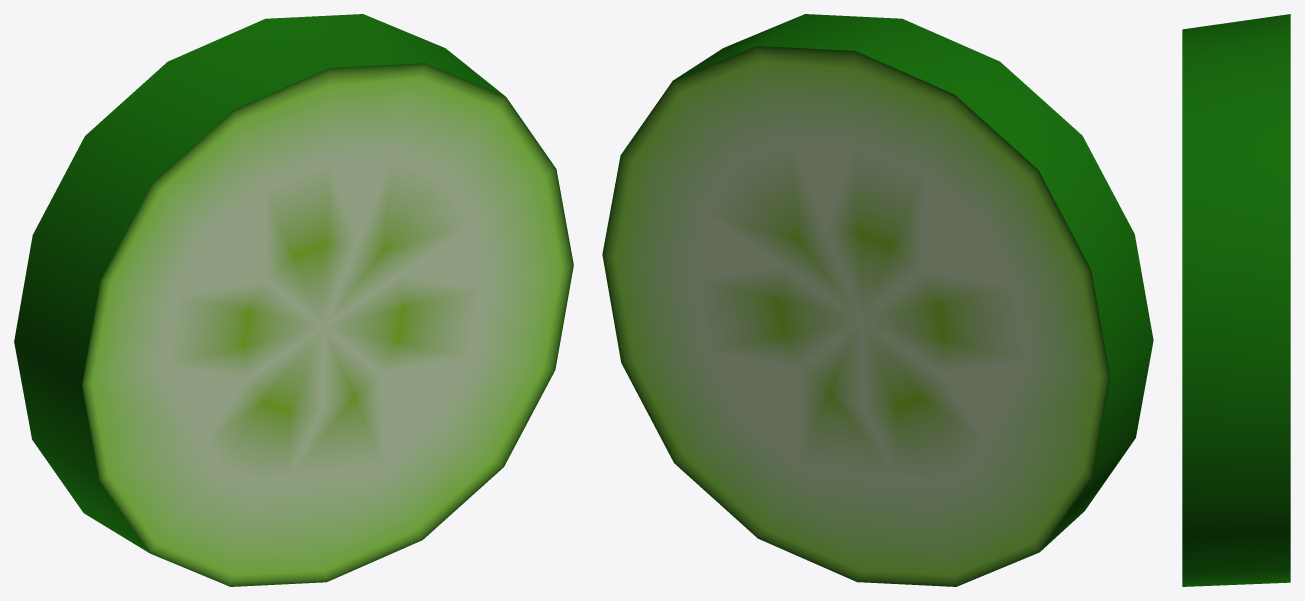
The model's file is Cucumber_Slice_07.fbx.
3 renders of one model, left to right at view 1: azimuth 30°, elevation 25°; view 2: azimuth 150°, elevation 25°; view 3: azimuth 270°, elevation 25°, orthographic. The views are drawn at different scales.
Visible parts, largest first — view 1: Cucumber_Slice_07; view 2: Cucumber_Slice_07; view 3: Cucumber_Slice_07.
Boxes of the visible parts, left/top/right/bottom form: Cucumber_Slice_07: left=14, top=14, right=573, bottom=586; Cucumber_Slice_07: left=602, top=14, right=1153, bottom=586; Cucumber_Slice_07: left=1182, top=14, right=1290, bottom=586.
Size of the model in its own units: 4.53 by 4.51 by 0.8606.
